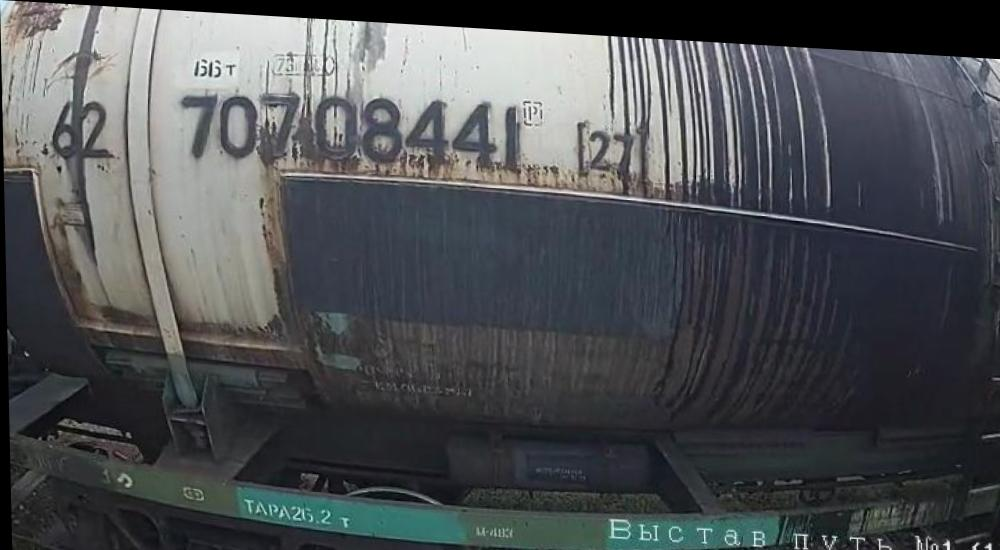Wagon-number: (177, 79, 526, 171)
